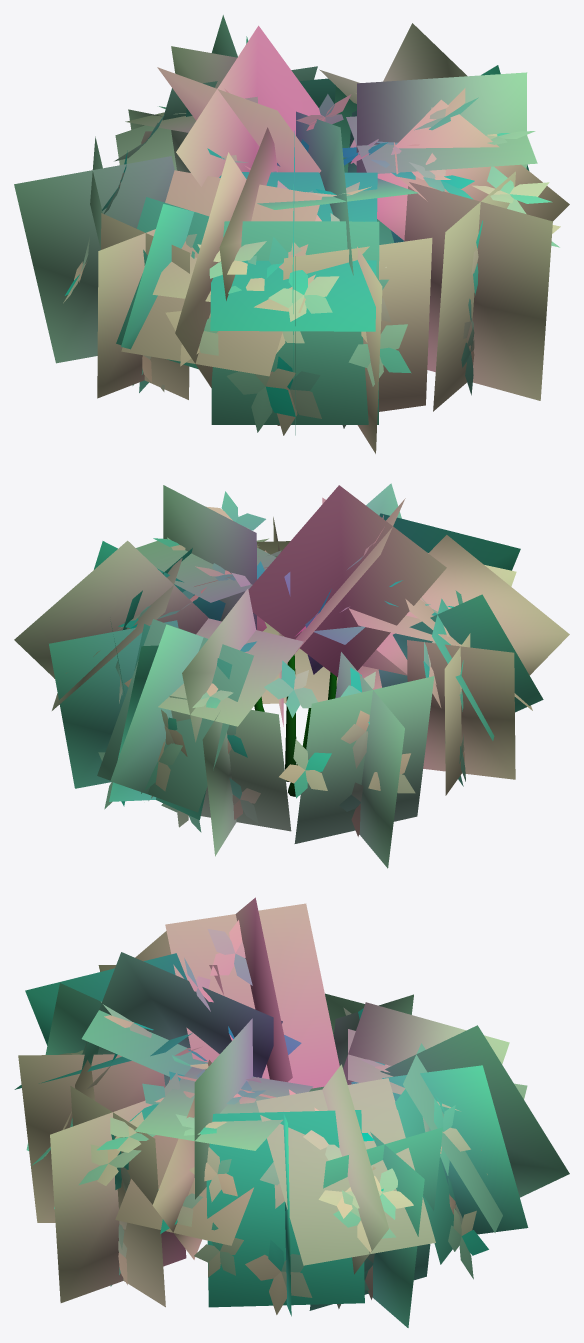
Rendered from scrub_3.glb.
3 views of the same model, one above another, from view 1: azimuth 30°, elevation 25°; view 2: azimuth 150°, elevation 25°; view 3: azimuth 270°, elevation 25° (orthographic). The views are drawn at different scales.
Visible parts, largest first — view 1: mid, near; view 2: mid, near; view 3: mid, near.
Part boxes in pixels (x1,y1,x2,y2): mid: (14, 15, 569, 453); near: (63, 88, 560, 435); mid: (14, 483, 569, 868); near: (54, 491, 465, 836); mid: (14, 897, 569, 1327); near: (31, 920, 488, 1314).
Size of the model in its own units: 3.97 by 2.76 by 4.1.
